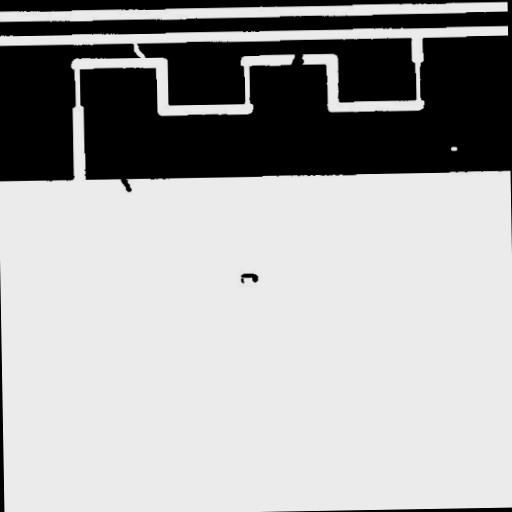copper: (234, 265, 266, 291)
open: (124, 32, 153, 67)
pin-hole: (442, 139, 464, 158)
short: (282, 44, 312, 77)
spur: (112, 170, 138, 200)
